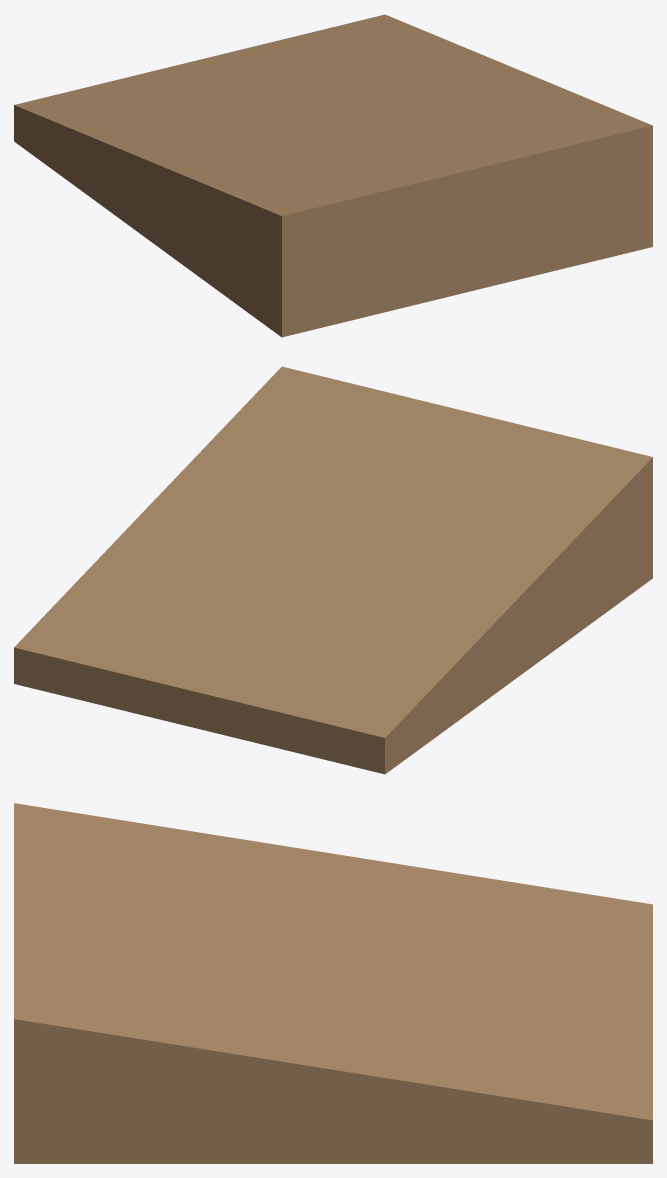
File: prop-spokeshave-wedge-sv2.fbx
3 views of the same model, one above another, from view 1: azimuth 30°, elevation 25°; view 2: azimuth 150°, elevation 25°; view 3: azimuth 270°, elevation 25° (orthographic). The views are drawn at different scales.
Parts seen in each view (by area): view 1: prop-spokeshave-wedge-sv2; view 2: prop-spokeshave-wedge-sv2; view 3: prop-spokeshave-wedge-sv2.
Boxes of the visible parts, box(x1,y1,x2,y2) form: prop-spokeshave-wedge-sv2: box(14, 14, 652, 337); prop-spokeshave-wedge-sv2: box(14, 366, 652, 774); prop-spokeshave-wedge-sv2: box(14, 803, 652, 1163).
Bounding box in the file's own units: 3.2 × 1 × 4.
